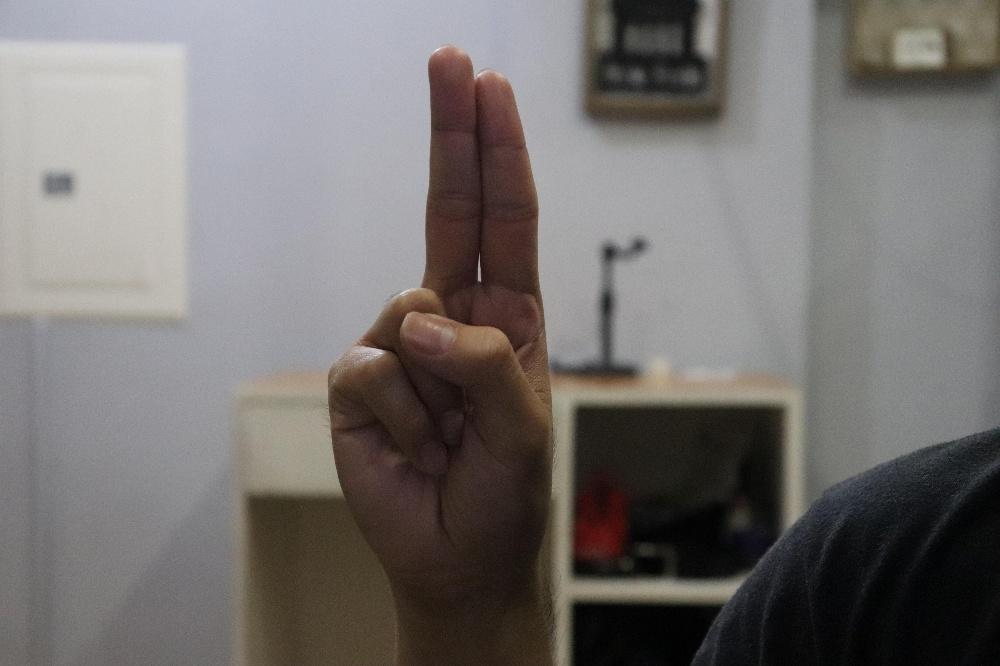u: (327, 43, 554, 605)
